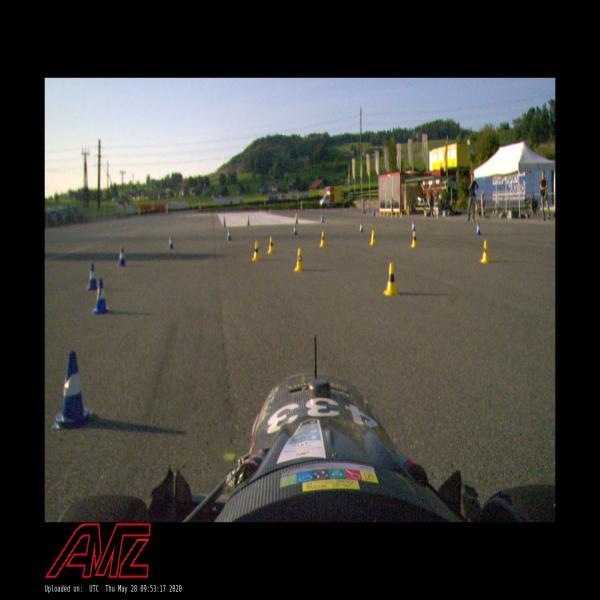blue_cone: (52, 351, 94, 432), (92, 277, 109, 315), (86, 263, 100, 291), (117, 246, 127, 268), (166, 236, 175, 250), (475, 222, 481, 236), (358, 221, 364, 233), (410, 220, 416, 231), (292, 225, 298, 235), (226, 229, 231, 240), (320, 212, 325, 223), (222, 218, 227, 228), (372, 206, 376, 216)
yellow_cone: (383, 262, 399, 296), (294, 247, 306, 272), (480, 240, 491, 263), (252, 241, 261, 262), (267, 235, 276, 254), (411, 230, 418, 248), (370, 230, 377, 246), (320, 232, 326, 247), (386, 210, 389, 218), (395, 210, 398, 218), (383, 211, 386, 218), (400, 212, 403, 219), (376, 211, 379, 217), (379, 211, 382, 217), (391, 212, 393, 218)
